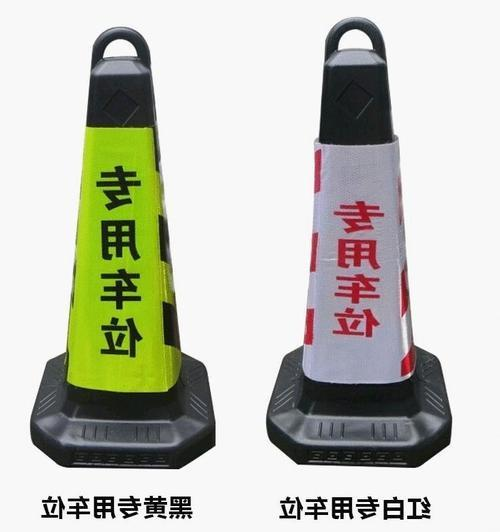cone_barrel: (268, 16, 448, 459), (28, 36, 210, 463)
